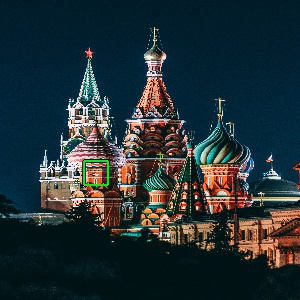square: (81, 158, 110, 187)
